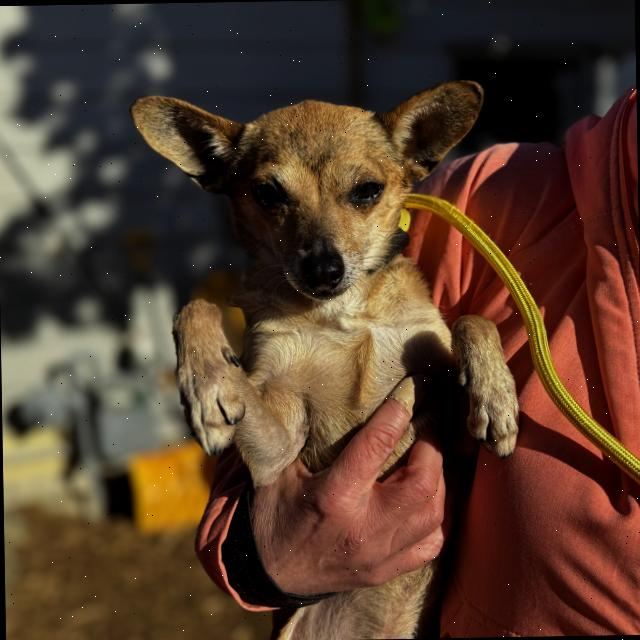chihuahua_dog: (116, 60, 498, 314)
